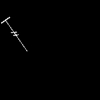treble_crochet: (2, 17, 16, 35)
